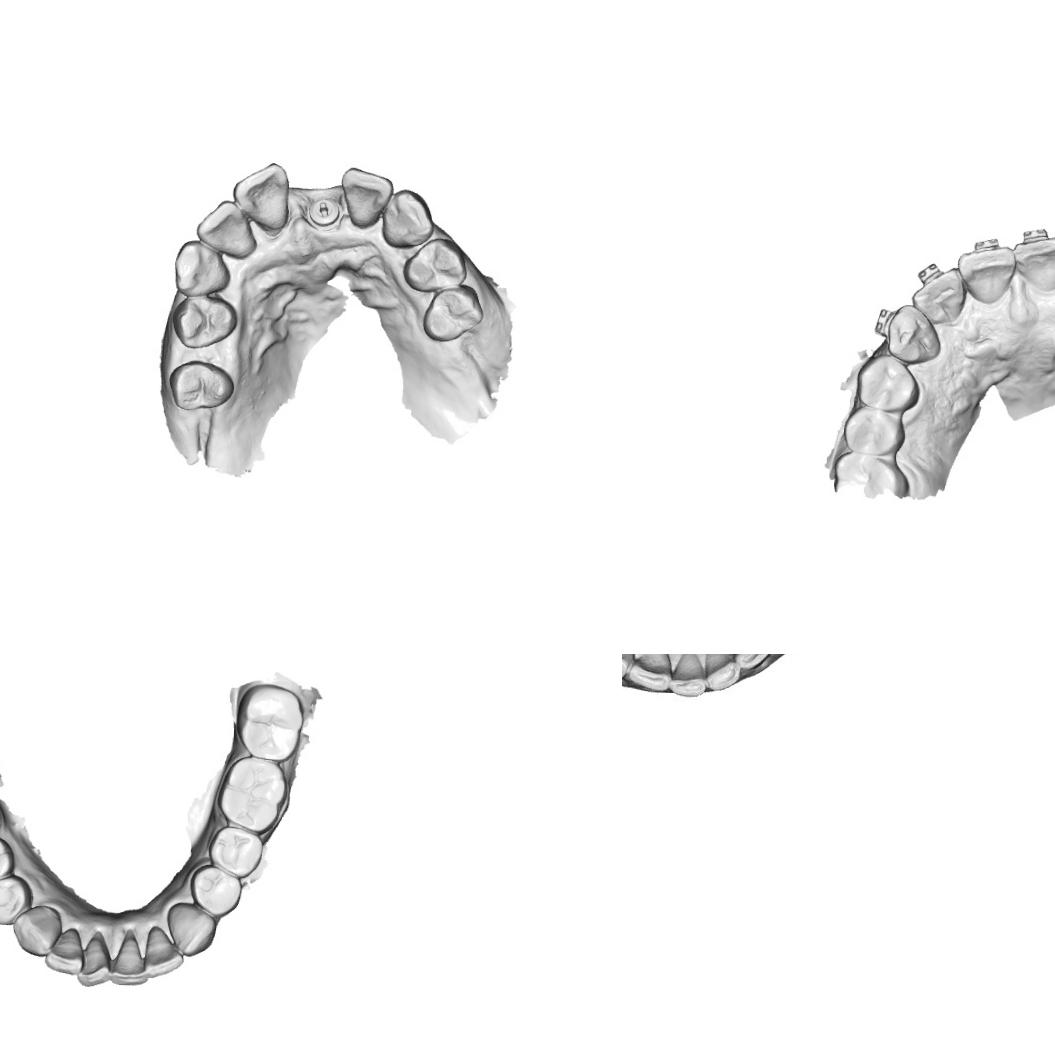canine: (879, 302, 945, 367), (170, 238, 234, 298), (380, 186, 438, 251), (164, 900, 218, 959), (10, 902, 66, 958)
implant_minus: (303, 191, 345, 233)
incisor: (230, 159, 293, 233), (952, 244, 1020, 306), (908, 264, 971, 328), (336, 164, 394, 230), (194, 197, 255, 259), (1008, 233, 1055, 295), (110, 928, 152, 988), (42, 924, 88, 978), (142, 924, 184, 982), (75, 933, 118, 989), (630, 654, 670, 693), (673, 654, 706, 697), (704, 654, 743, 688), (731, 654, 772, 668)
molar: (212, 752, 289, 836), (232, 682, 308, 764)
premolar: (399, 234, 470, 296), (168, 291, 240, 352), (166, 357, 238, 414), (419, 284, 485, 346), (854, 353, 922, 413), (186, 862, 245, 921), (842, 407, 909, 458), (206, 824, 266, 880), (0, 871, 35, 927), (0, 833, 18, 891)
